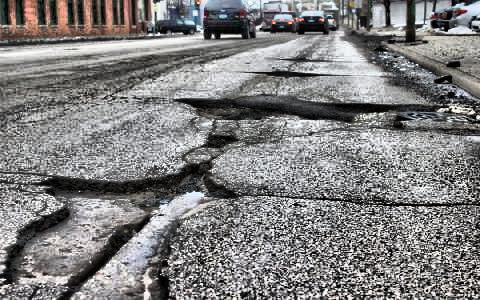pothole: (1, 159, 242, 299), (266, 96, 395, 122), (173, 95, 264, 122), (199, 132, 240, 149), (253, 69, 318, 77)
